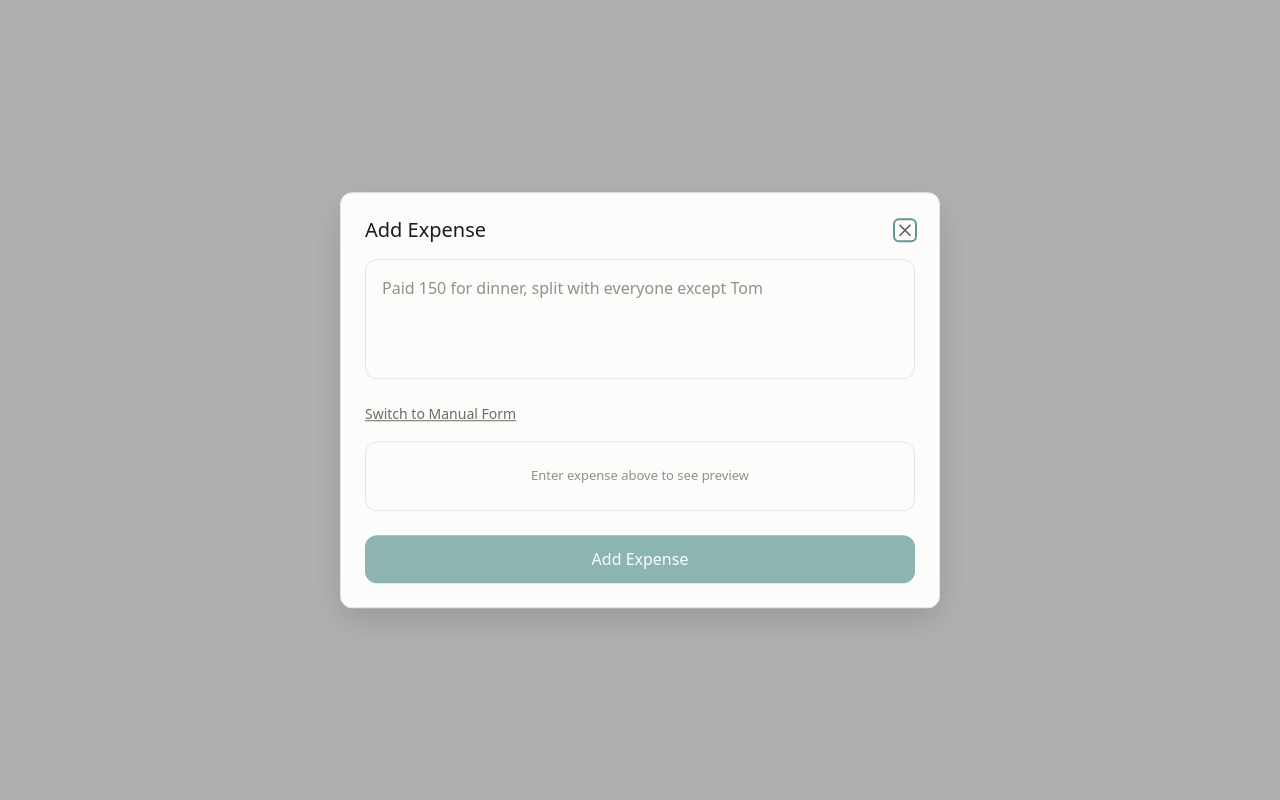
it: SmartInputModal › Manual Form Toggle (AC #4) › shows ExpenseForm when in manual mode with groupId
// Switch to manual
Click the button "Switch to Manual Form" at x=441, y=414, box [365, 404, 516, 424]
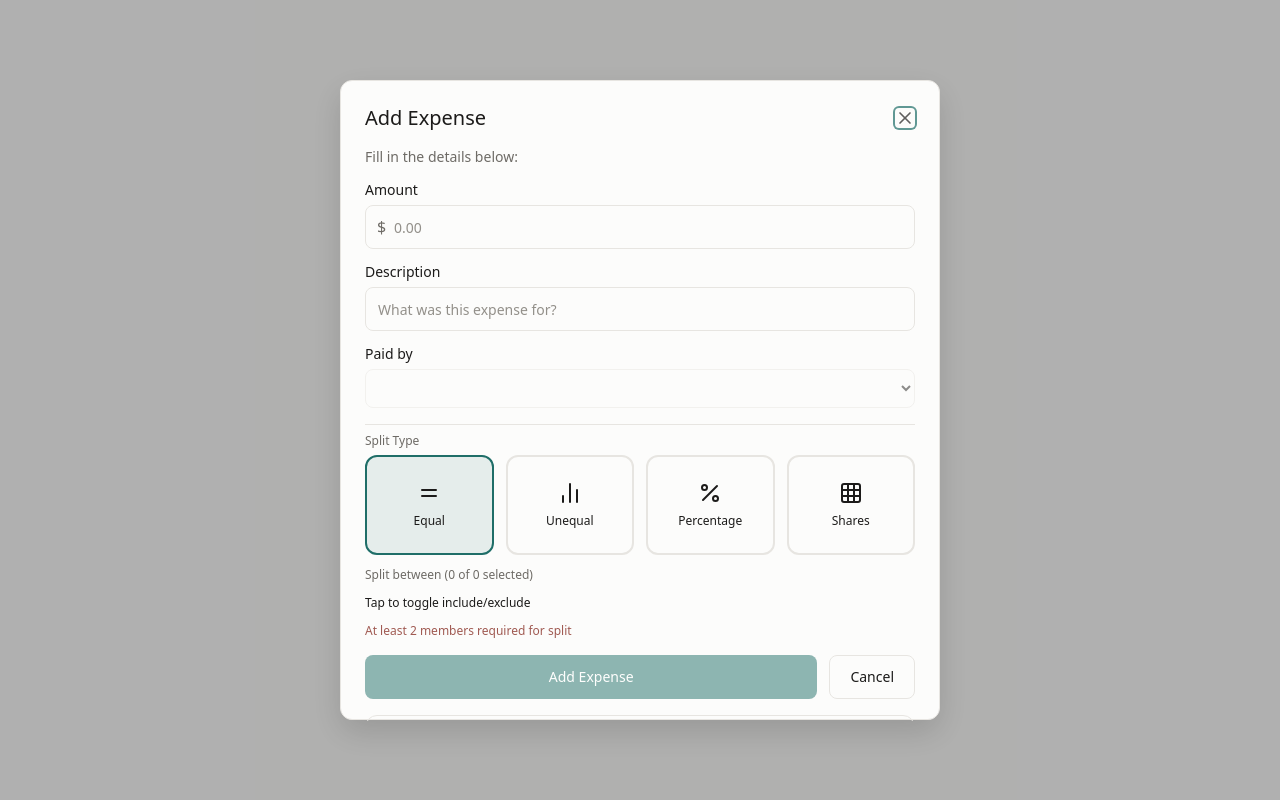
Result: the text "Fill in the details below:" is shown at [365, 147, 518, 166]
